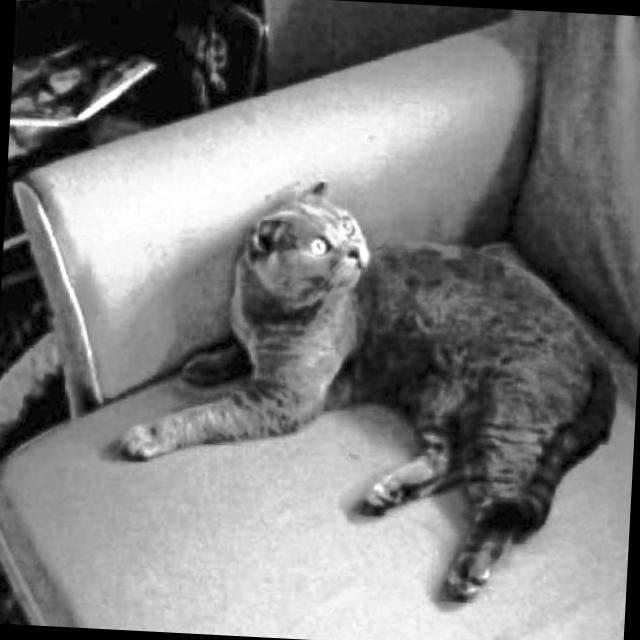Cat: (100, 155, 637, 616)
